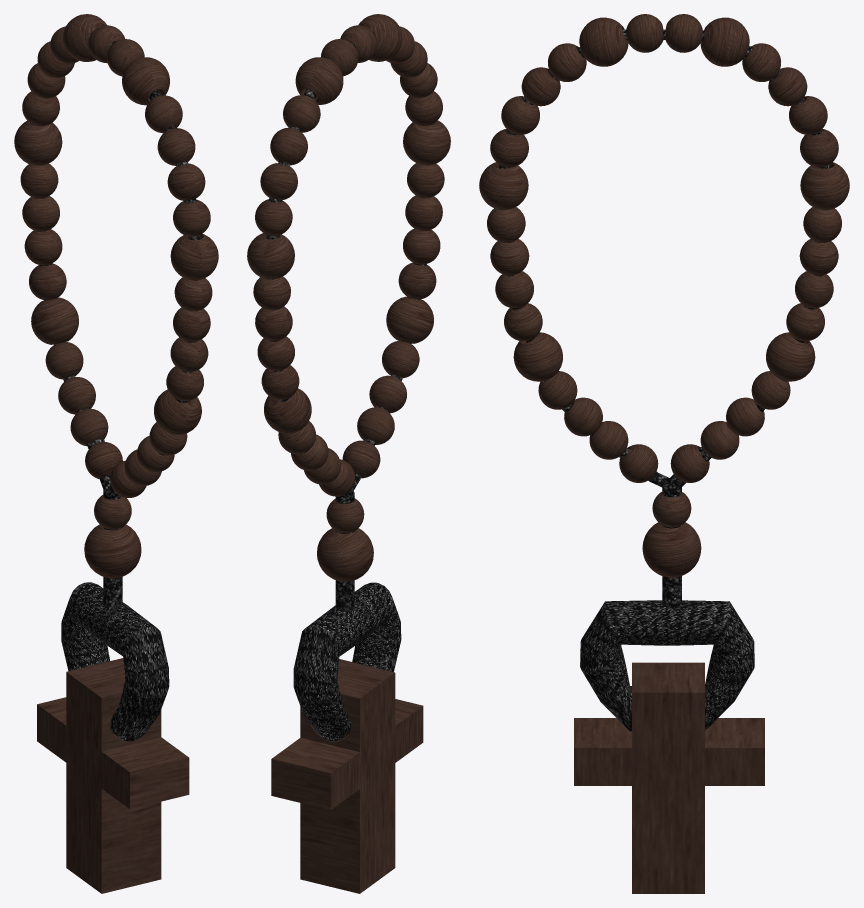
The model's file is rosary.obj.
3 views of the same model, side by side, from view 1: azimuth 30°, elevation 25°; view 2: azimuth 150°, elevation 25°; view 3: azimuth 270°, elevation 25° (orthographic). The views are drawn at different scales.
Parts seen in each view (by area): view 1: Box001_Material_#21_0, Cylinder001_Material_#22_0, Sphere012_Material_#20_0, Sphere007_Material_#20_0, Sphere017_Material_#20_0, Sphere001_Material_#20_0, Sphere009_Material_#20_0, Sphere011_Material_#20_0, Sphere010_Material_#20_0, Sphere008_Material_#20_0, Sphere013_Material_#20_0, Sphere014_Material_#20_0 (+9 smaller); view 2: Box001_Material_#21_0, Cylinder001_Material_#22_0, Sphere012_Material_#20_0, Sphere007_Material_#20_0, Sphere017_Material_#20_0, Sphere001_Material_#20_0, Sphere010_Material_#20_0, Sphere008_Material_#20_0, Sphere009_Material_#20_0, Sphere011_Material_#20_0, Sphere013_Material_#20_0, Sphere014_Material_#20_0 (+9 smaller); view 3: Box001_Material_#21_0, Cylinder001_Material_#22_0, Sphere017_Material_#20_0, Sphere007_Material_#20_0, Sphere012_Material_#20_0, Sphere001_Material_#20_0, Sphere018_Material_#20_0, Sphere005_Material_#20_0, Sphere016_Material_#20_0, Sphere004_Material_#20_0, Sphere015_Material_#20_0, Sphere003_Material_#20_0 (+9 smaller).
Boxes of the visible parts, box(x1,y1,x2,y2) form: Box001_Material_#21_0: box(37, 658, 189, 893); Cylinder001_Material_#22_0: box(61, 582, 169, 741); Sphere012_Material_#20_0: box(14, 120, 218, 280); Sphere007_Material_#20_0: box(31, 297, 201, 434); Sphere017_Material_#20_0: box(63, 14, 169, 105); Sphere001_Material_#20_0: box(84, 524, 141, 578); Sphere009_Material_#20_0: box(24, 229, 208, 372); Sphere011_Material_#20_0: box(20, 163, 212, 311); Sphere010_Material_#20_0: box(22, 196, 210, 341); Sphere008_Material_#20_0: box(29, 263, 203, 400); Sphere013_Material_#20_0: box(22, 91, 210, 236); Sphere014_Material_#20_0: box(27, 63, 205, 200); Box001_Material_#21_0: box(271, 659, 423, 893); Cylinder001_Material_#22_0: box(293, 582, 401, 741); Sphere012_Material_#20_0: box(247, 120, 450, 279); Sphere007_Material_#20_0: box(264, 296, 433, 433); Sphere017_Material_#20_0: box(295, 14, 402, 104); Sphere001_Material_#20_0: box(317, 528, 373, 581); Sphere010_Material_#20_0: box(255, 195, 442, 340); Sphere008_Material_#20_0: box(261, 262, 436, 399); Sphere009_Material_#20_0: box(257, 228, 440, 370); Sphere011_Material_#20_0: box(253, 163, 444, 310); Sphere013_Material_#20_0: box(255, 91, 442, 235); Sphere014_Material_#20_0: box(260, 63, 437, 200); Box001_Material_#21_0: box(574, 662, 764, 893); Cylinder001_Material_#22_0: box(580, 600, 754, 731); Sphere017_Material_#20_0: box(579, 17, 749, 66); Sphere007_Material_#20_0: box(513, 332, 815, 381); Sphere012_Material_#20_0: box(479, 162, 849, 210); Sphere001_Material_#20_0: box(642, 522, 701, 577); Sphere018_Material_#20_0: box(626, 14, 702, 52); Sphere005_Material_#20_0: box(564, 397, 764, 436); Sphere016_Material_#20_0: box(548, 43, 780, 81); Sphere004_Material_#20_0: box(589, 421, 739, 459); Sphere015_Material_#20_0: box(521, 67, 807, 106); Sphere003_Material_#20_0: box(619, 444, 709, 482).
Bounding box in the file's own units: 0.1731 × 2.33 × 0.9081.
Materials: 3 (3 with a texture image).
